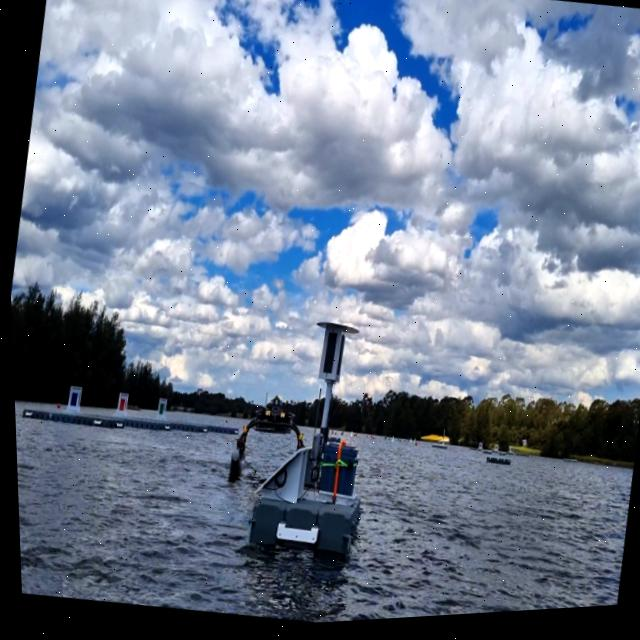led: (316, 332, 339, 383)
